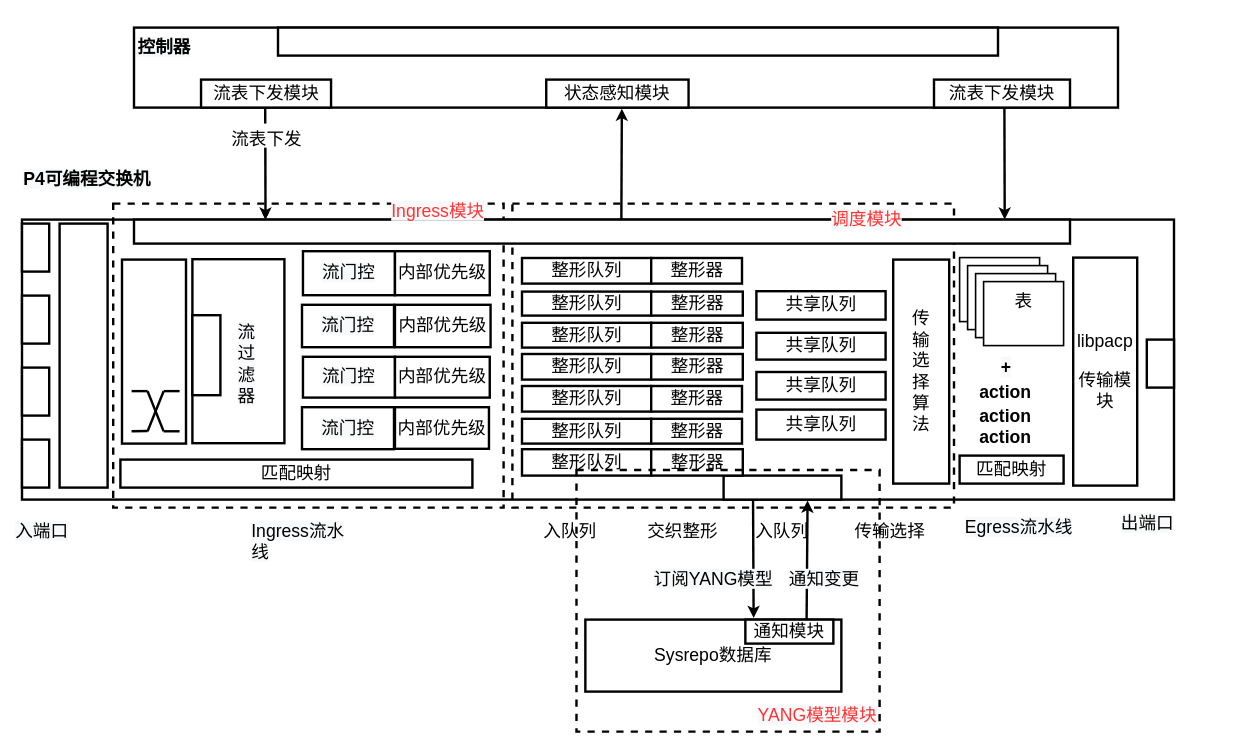
The diagram is 1245 pixels wide and 746 high, and some of its shapes have lost their labels. The centre of each missing label's shape, as x and y in pixels:
P4Runtime: (601,231)
交换 结构: (153,351)
交换机状态: (632,135)
决策模块: (637,41)
包解析: (83,355)
流识别: (206,355)
订阅模块: (782,487)
